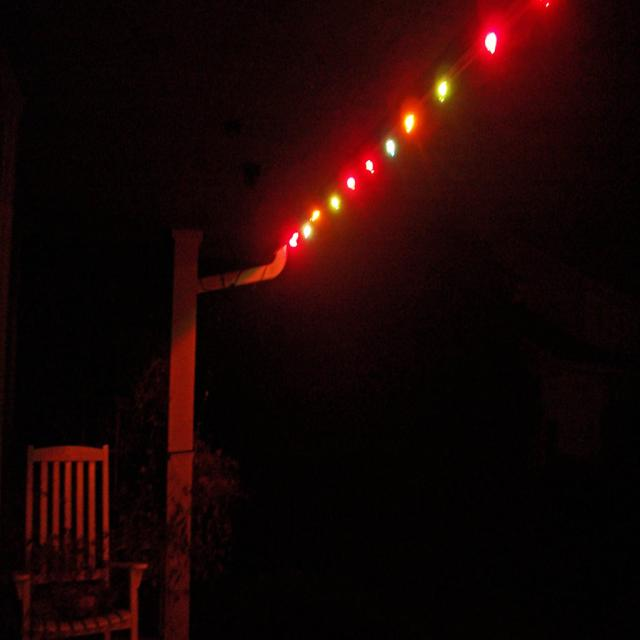chair: (17, 422, 150, 640)
